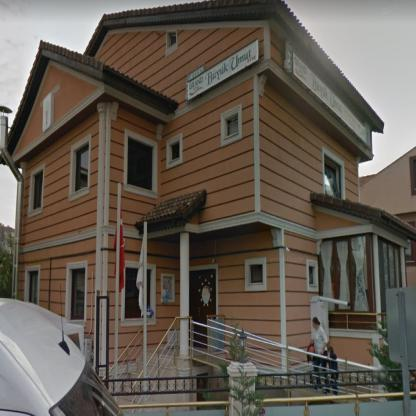door: (189, 269, 216, 347)
window: (318, 232, 375, 312), (378, 235, 403, 312), (127, 136, 155, 192), (323, 152, 343, 199), (124, 266, 141, 320), (70, 268, 85, 320), (75, 144, 89, 192), (32, 171, 43, 211), (224, 111, 238, 139), (28, 271, 38, 303), (248, 263, 262, 285), (169, 139, 179, 163), (163, 276, 173, 300), (309, 264, 315, 286), (168, 33, 176, 48), (147, 269, 150, 306)
